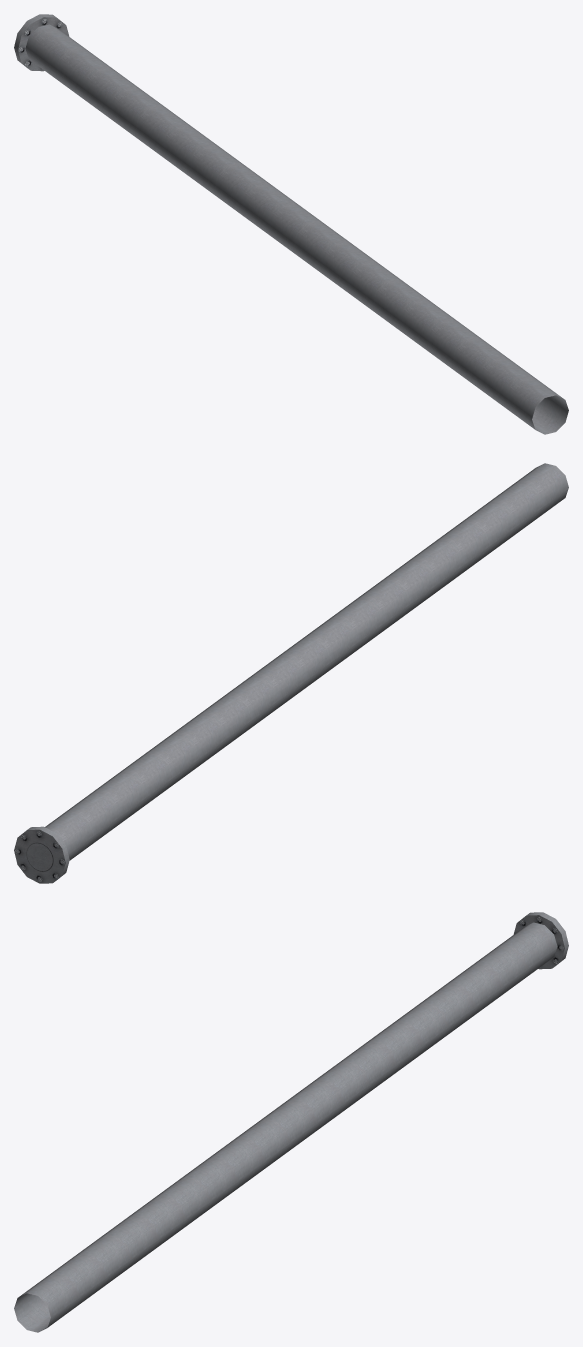
Rendered from p_huge_1_cap.FBX.
The picture shows the model from 3 angles, top to bottom: view 1: azimuth 30°, elevation 25°; view 2: azimuth 150°, elevation 25°; view 3: azimuth 330°, elevation 25°; orthographic projection.
Parts seen in each view (by area): view 1: Cylinder031; view 2: Cylinder031; view 3: Cylinder031.
Part boxes in pixels (x1,y1,x2,y2): Cylinder031: (14, 14, 568, 434); Cylinder031: (14, 463, 568, 883); Cylinder031: (14, 912, 568, 1332).
Size of the model in its own units: 29.97 by 29.97 by 512.
Materials: 1 (1 with a texture image).
